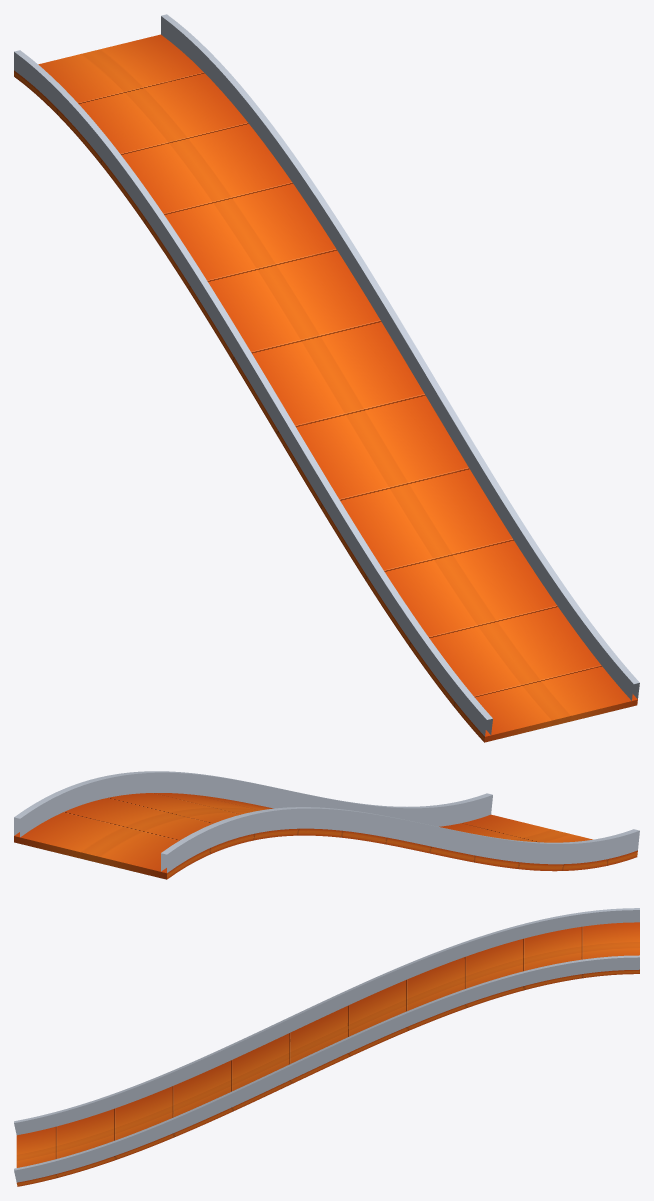
Rendered from ramp-down-1.6.glb.
3 renders of one model, top to bottom at view 1: azimuth 30°, elevation 25°; view 2: azimuth 150°, elevation 25°; view 3: azimuth 270°, elevation 25°, orthographic. The views are drawn at different scales.
Bounding box in the file's own units: 3 × 6.5 × 16.07.
Materials: 2 (1 with a texture image).
